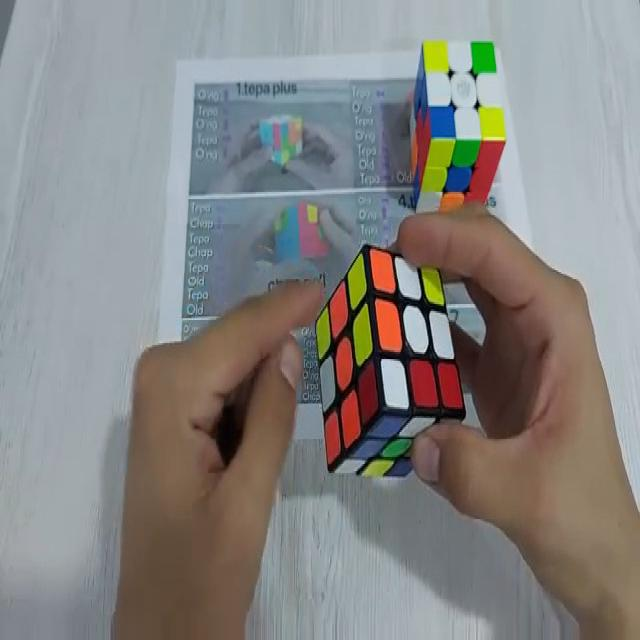Rub: (316, 241, 466, 483), (409, 40, 506, 214)
